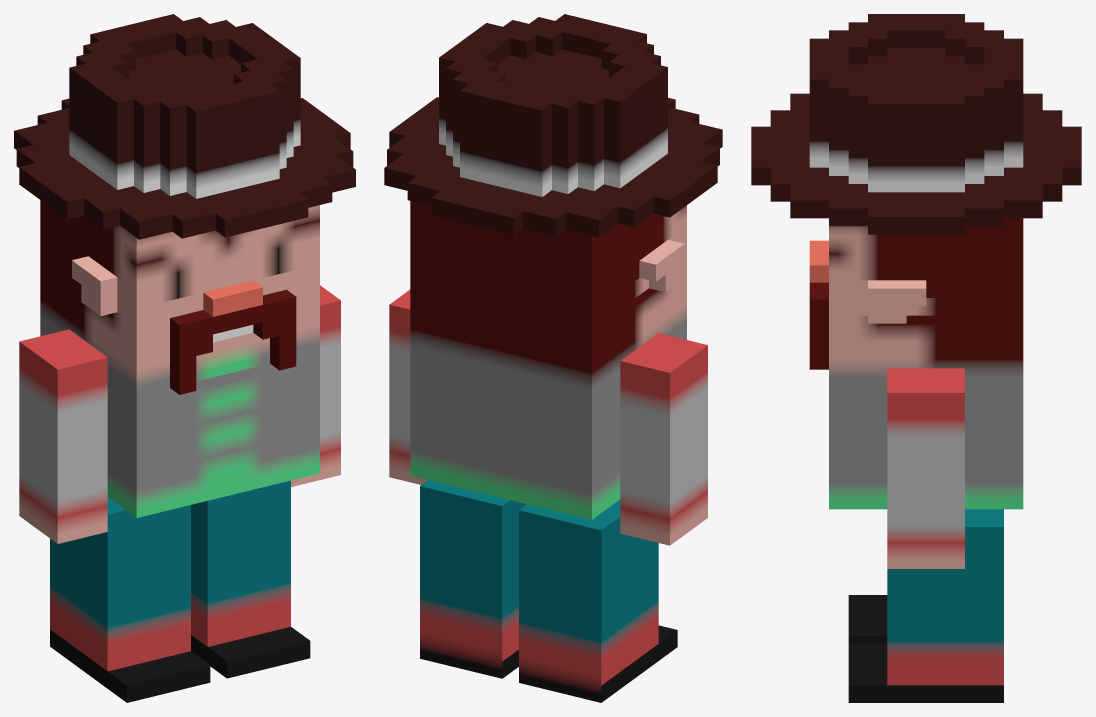
Rendered from Sam.fbx.
3 renders of one model, left to right at view 1: azimuth 30°, elevation 25°; view 2: azimuth 150°, elevation 25°; view 3: azimuth 270°, elevation 25°, orthographic.
Parts seen in each view (by area): view 1: Main, RightFoot, LeftFoot, RightHand, LeftHand; view 2: Main, RightFoot, LeftFoot, RightHand, LeftHand; view 3: Main, LeftFoot, LeftHand, RightFoot.
Boxes of the visible parts, box(x1,y1,x2,y2) form: Main: box(14, 14, 355, 517); RightFoot: box(50, 497, 210, 702); LeftFoot: box(191, 480, 310, 678); RightHand: box(19, 329, 107, 543); LeftHand: box(291, 285, 340, 486); Main: box(384, 14, 722, 519); RightFoot: box(519, 499, 677, 702); LeftFoot: box(420, 480, 526, 678); RightHand: box(620, 333, 707, 545); LeftHand: box(389, 289, 427, 484); Main: box(751, 14, 1081, 509); LeftFoot: box(848, 509, 1003, 702); LeftHand: box(887, 368, 964, 568); RightFoot: box(848, 595, 887, 644).
Size of the model in its own units: 17 by 34 by 17.
Materials: 1 (1 with a texture image).
